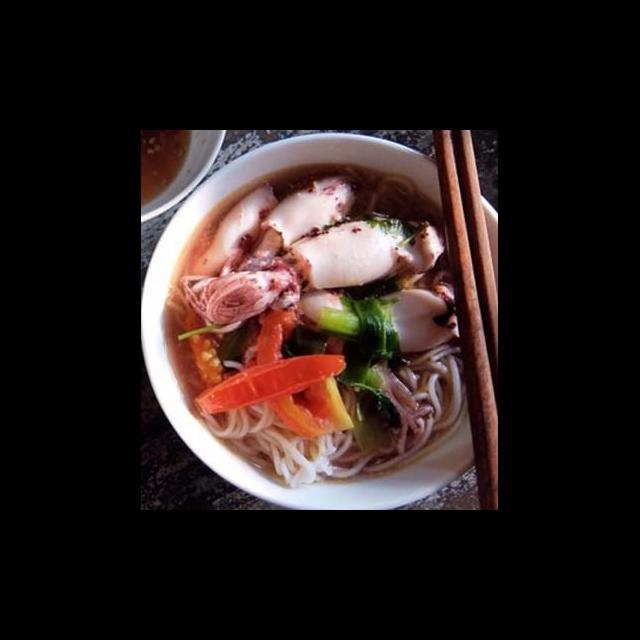bun: (198, 393, 380, 489), (384, 340, 482, 470)
muc: (182, 210, 452, 331), (214, 171, 364, 284), (287, 275, 463, 358), (187, 177, 286, 282), (364, 356, 438, 458)
